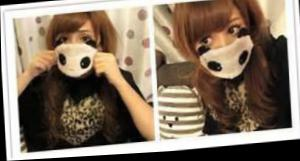OK: (53, 24, 100, 81)
WRONG: (195, 18, 253, 85)
